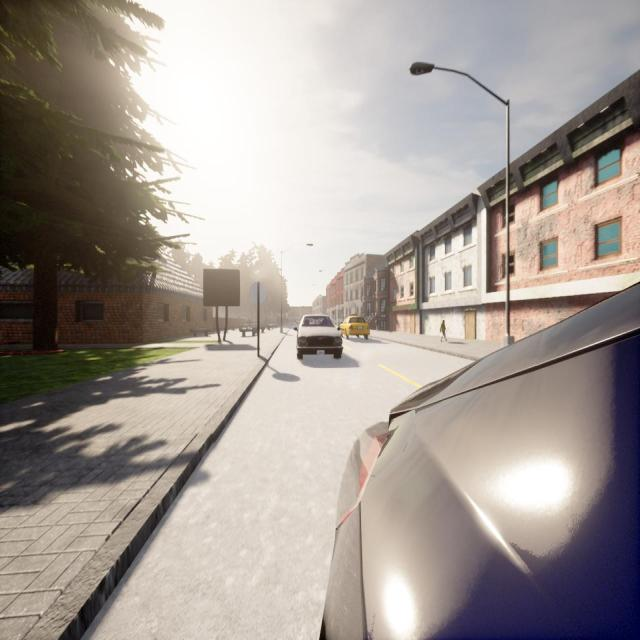Pedestrian: (440, 319, 448, 343), (373, 311, 381, 333)
Traffic_Signs: (249, 282, 267, 305)
Vehicle: (319, 280, 640, 640), (294, 314, 344, 359), (338, 315, 370, 339)
